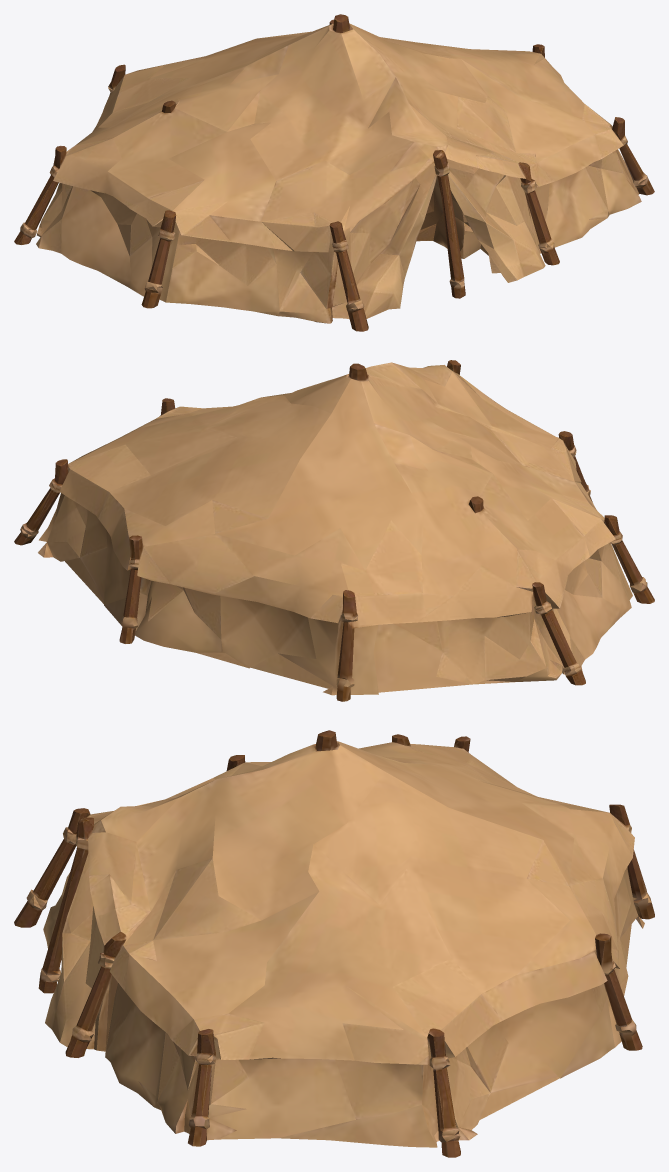
The model's file is tent-large.glb.
3 views of the same model, one above another, from view 1: azimuth 30°, elevation 25°; view 2: azimuth 150°, elevation 25°; view 3: azimuth 270°, elevation 25° (orthographic). The views are drawn at different scales.
Bounding box in the file's own units: 1.89 × 0.6594 × 1.51.
1 material, 1 textured.
